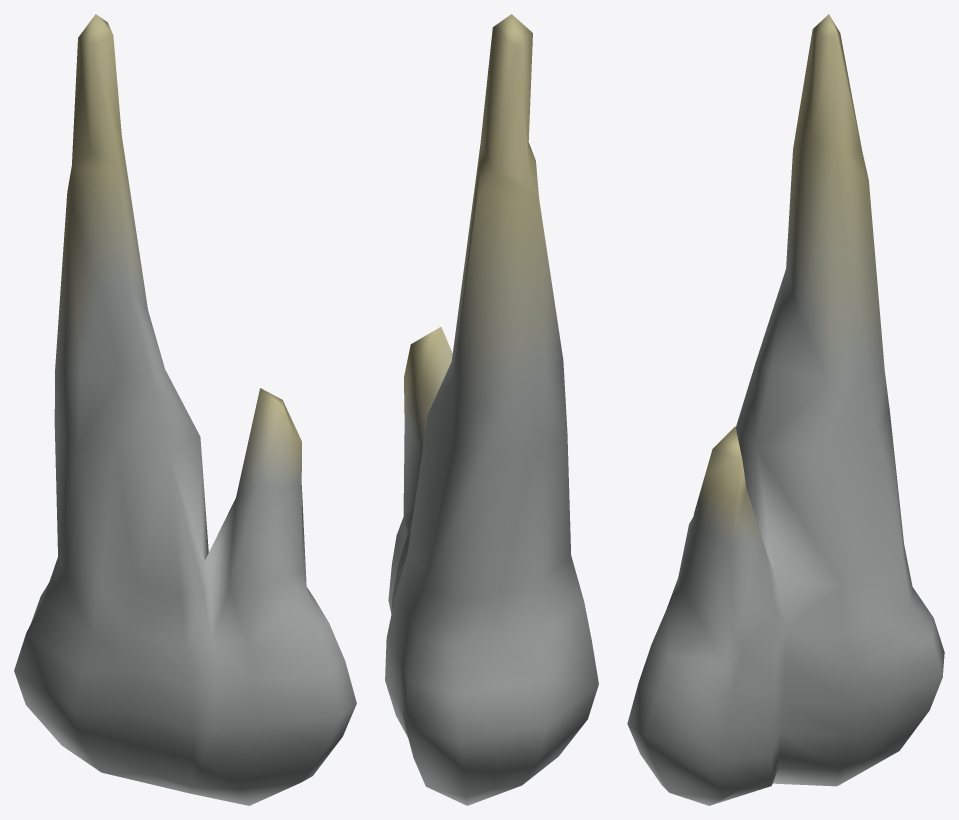
3 views of the same model, side by side, from view 1: azimuth 30°, elevation 25°; view 2: azimuth 150°, elevation 25°; view 3: azimuth 270°, elevation 25° (orthographic). The views are drawn at different scales.
Parts seen in each view (by area): view 1: G:\FFXIV-MapTools\exports\l1f1\bg\ffxiv\lak_l1\fld\l1f1\bgpa; view 2: G:\FFXIV-MapTools\exports\l1f1\bg\ffxiv\lak_l1\fld\l1f1\bgpa; view 3: G:\FFXIV-MapTools\exports\l1f1\bg\ffxiv\lak_l1\fld\l1f1\bgpa.
Part boxes in pixels (x1,y1,x2,y2): G:\FFXIV-MapTools\exports\l1f1\bg\ffxiv\lak_l1\fld\l1f1\bgpa: (14,14,356,805); G:\FFXIV-MapTools\exports\l1f1\bg\ffxiv\lak_l1\fld\l1f1\bgpa: (385,14,598,805); G:\FFXIV-MapTools\exports\l1f1\bg\ffxiv\lak_l1\fld\l1f1\bgpa: (627,14,944,805).
Bounding box in the file's own units: 7.02 × 21.6 × 8.24.
